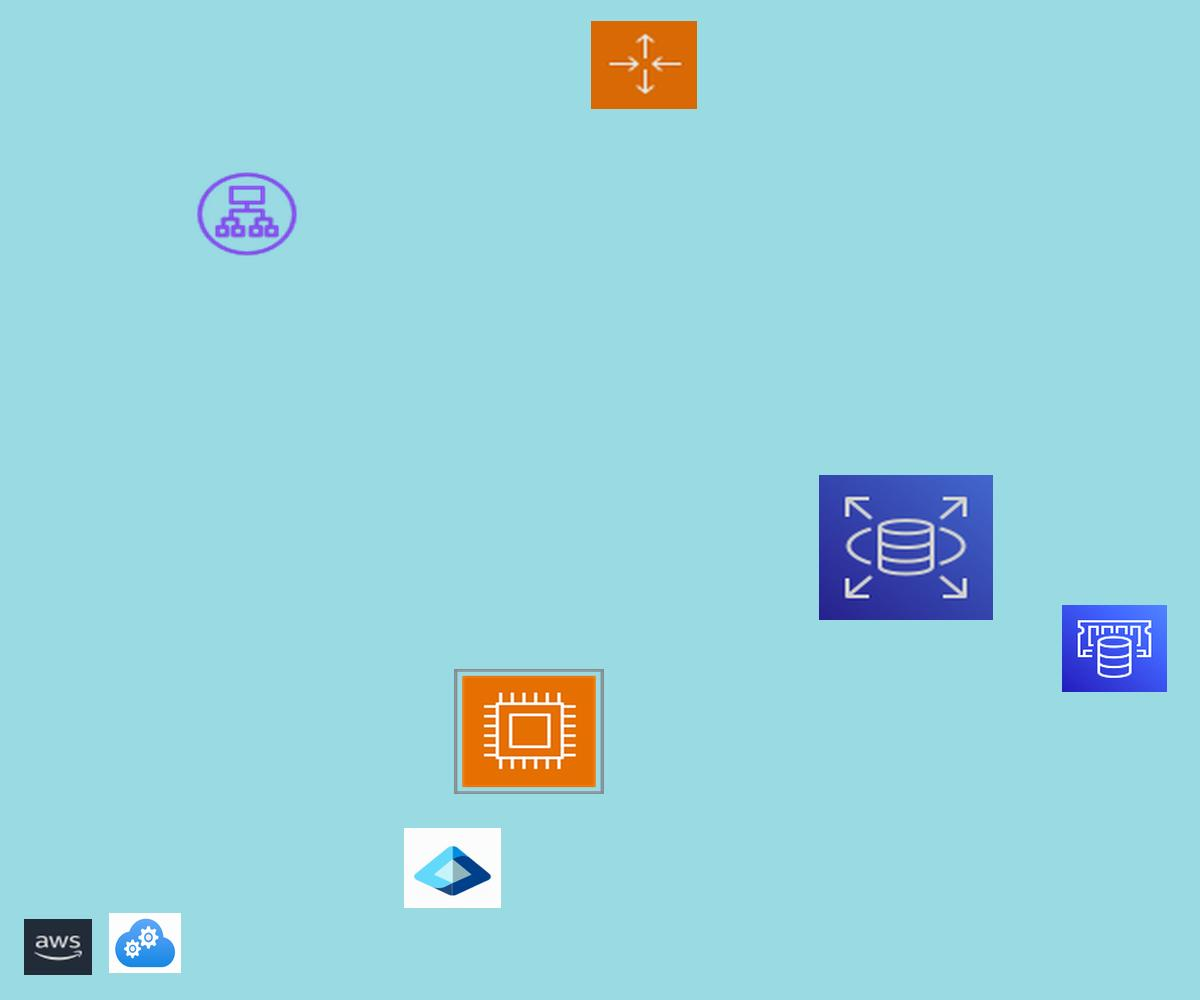AWS-Category_Compute: (454, 669, 604, 794)
AWS-Cloud-logo: (24, 919, 92, 975)
AWS-ElastiCache: (1062, 605, 1167, 692)
AWS-RDS: (819, 475, 993, 620)
AWS-Res_Elastic-Load-Balancing_Application-Load-Balancer: (193, 169, 301, 259)
AWS-Scaling-group: (591, 21, 697, 109)
Azure_cloud_services: (109, 913, 181, 973)
Azure_microsoft_entra: (404, 828, 501, 908)
